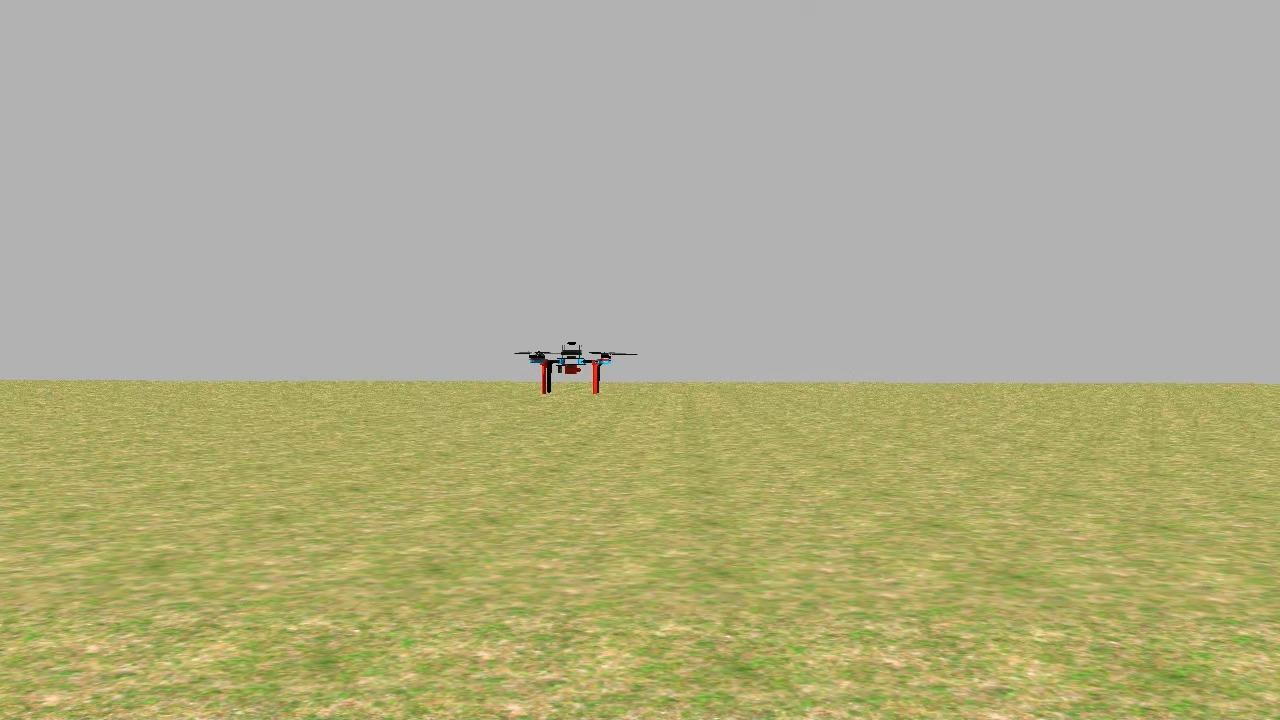UAV: (512, 334, 632, 395)
